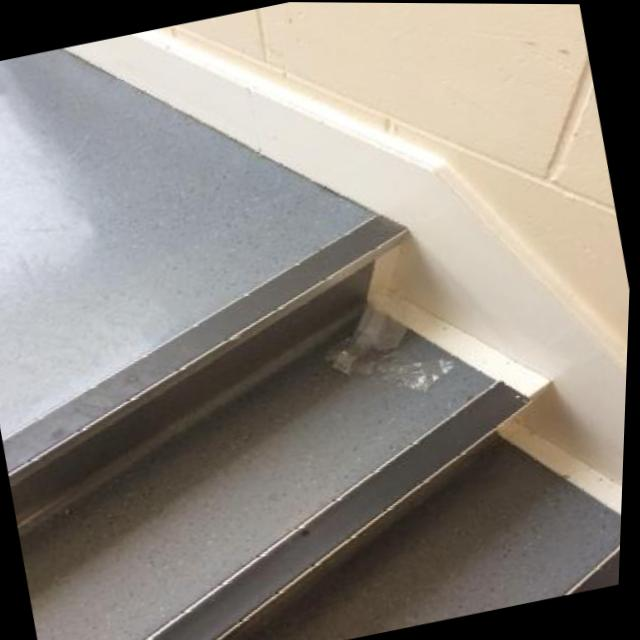plastic: (310, 261, 460, 410)
